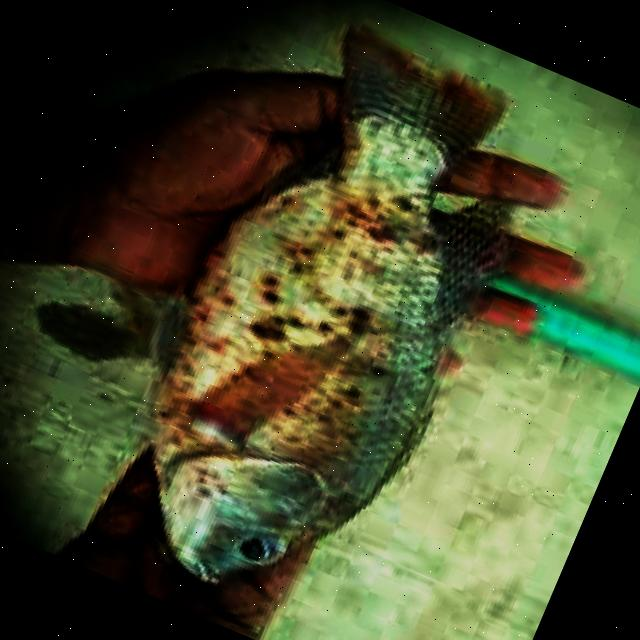Epizootic Ulcerative Syndrome -EUS-: (152, 31, 508, 583)
